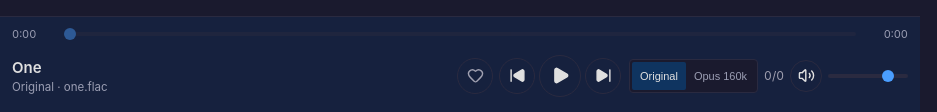
Test case: NowPlayingBar › handles a failed favorite mutation without changing state
This screenshot has width=937, height=112.
Click the button with class "btn-fav" at (475, 76), box [457,58,493,94]
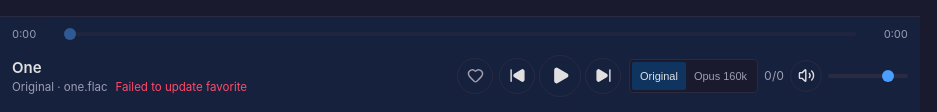
Expected: the text "Failed to update favorite" is shown, [116,80,247,94]
